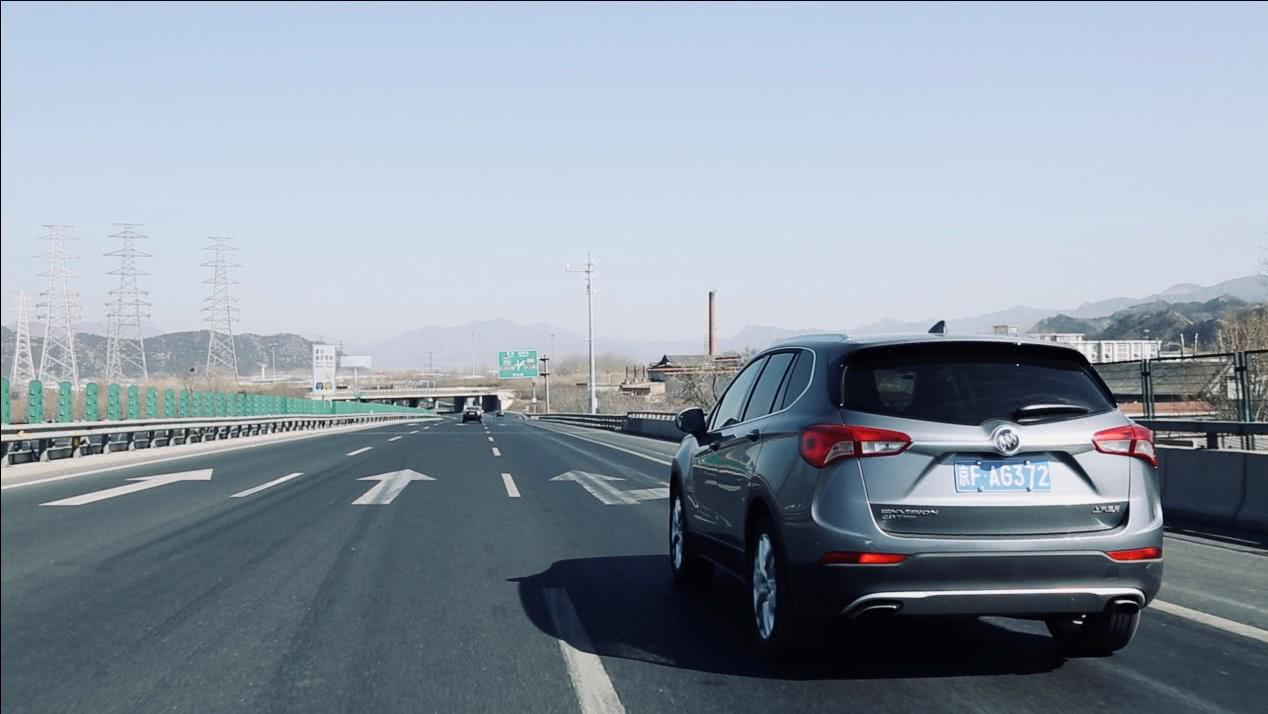car: (607, 299, 1170, 656)
